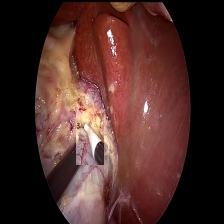Hook: (74, 110, 102, 164)
